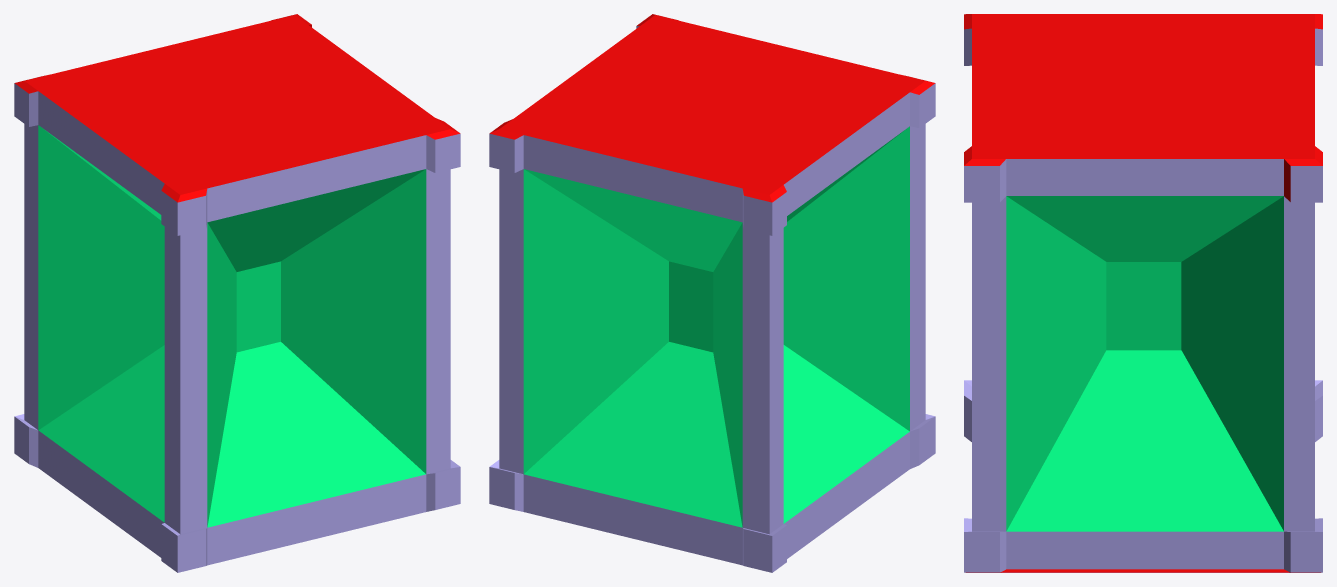
Rendered from pilar central.fbx.
The picture shows the model from 3 angles, left to right: view 1: azimuth 30°, elevation 25°; view 2: azimuth 150°, elevation 25°; view 3: azimuth 270°, elevation 25°; orthographic projection. The views are drawn at different scales.
Visible parts, largest first — view 1: soporte_para_el_pilar_del_centro_del_mapa:pCube1; view 2: soporte_para_el_pilar_del_centro_del_mapa:pCube1; view 3: soporte_para_el_pilar_del_centro_del_mapa:pCube1.
Part boxes in pixels (<box>): soporte_para_el_pilar_del_centro_del_mapa:pCube1: <box>14,14,460,572</box>; soporte_para_el_pilar_del_centro_del_mapa:pCube1: <box>489,14,935,572</box>; soporte_para_el_pilar_del_centro_del_mapa:pCube1: <box>964,14,1322,572</box>.
Bounding box in the file's own units: 628 × 800 × 628.
